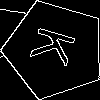K: (30, 25, 86, 70)
